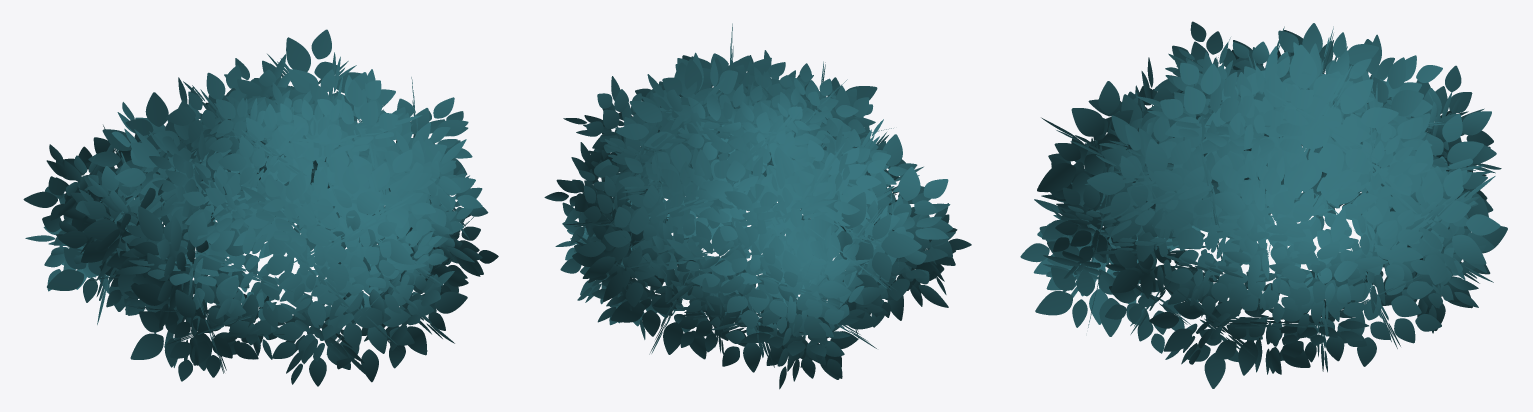
The picture shows the model from 3 angles, left to right: view 1: azimuth 30°, elevation 25°; view 2: azimuth 150°, elevation 25°; view 3: azimuth 270°, elevation 25°; orthographic projection. The views are drawn at different scales.
Visible parts, largest first — view 1: submesh_0; view 2: submesh_0; view 3: submesh_0.
Boxes of the visible parts, x1,y1,x2,y2 form: submesh_0: (23,29,498,386); submesh_0: (544,23,971,389); submesh_0: (1020,21,1507,388).
Size of the model in its own units: 1.62 by 1.1 by 1.64.
Materials: 1 (1 with a texture image).
